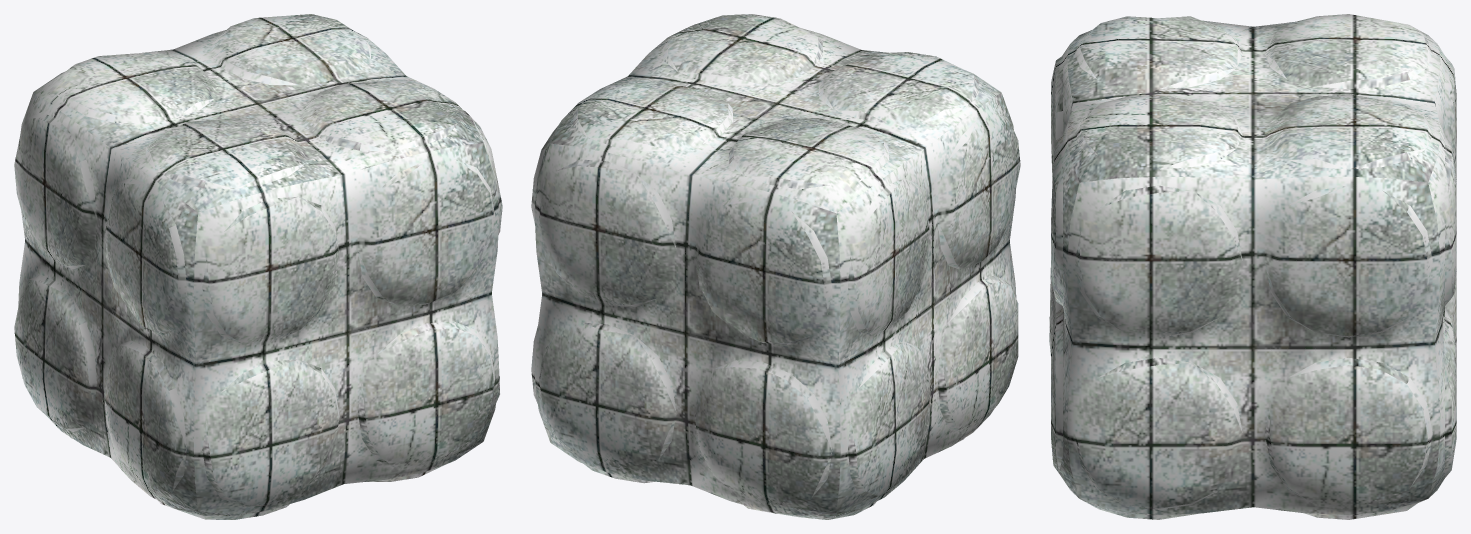
File: boxs01.FBX
3 renders of one model, left to right at view 1: azimuth 30°, elevation 25°; view 2: azimuth 150°, elevation 25°; view 3: azimuth 270°, elevation 25°, orthographic. The views are drawn at different scales.
Visible parts, largest first — view 1: Box03; view 2: Box03; view 3: Box03.
Part boxes in pixels (box(x1,y1,x2,y2)): Box03: box(14, 14, 502, 519); Box03: box(531, 14, 1020, 519); Box03: box(1049, 14, 1456, 519).
Size of the model in its own units: 53.59 by 53.82 by 53.59.
Materials: 1 (1 with a texture image).
